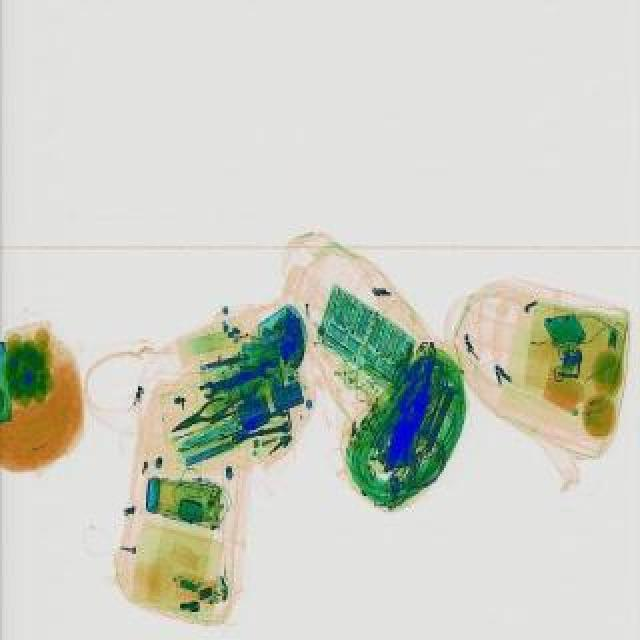scissors: (198, 356, 280, 400), (234, 402, 290, 430), (230, 420, 294, 442)
wrench: (394, 348, 446, 416), (166, 394, 232, 438)
